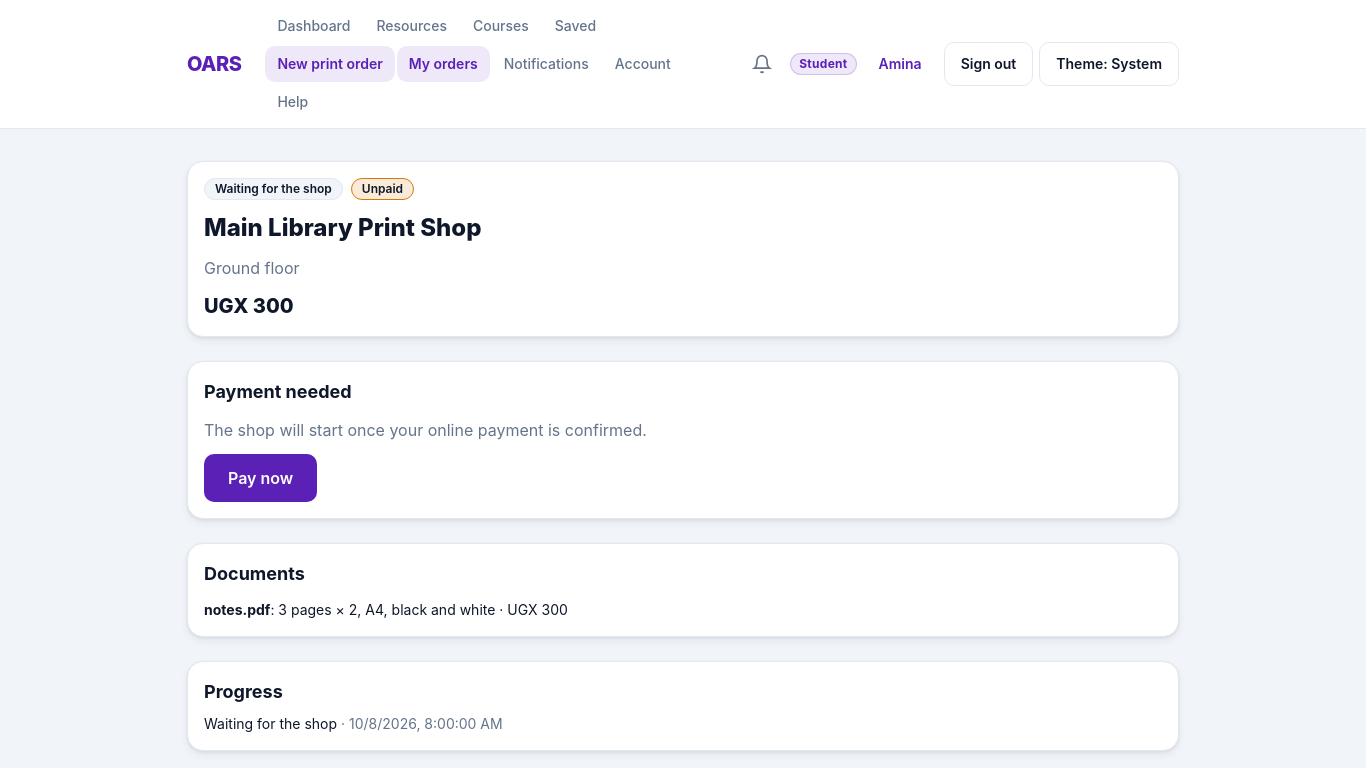
Test: PrintOrderPage › explains when the payment provider is unavailable
The image size is (1366, 768).
Click the button "Pay now".
click(261, 478)  # box [204,454,317,502]
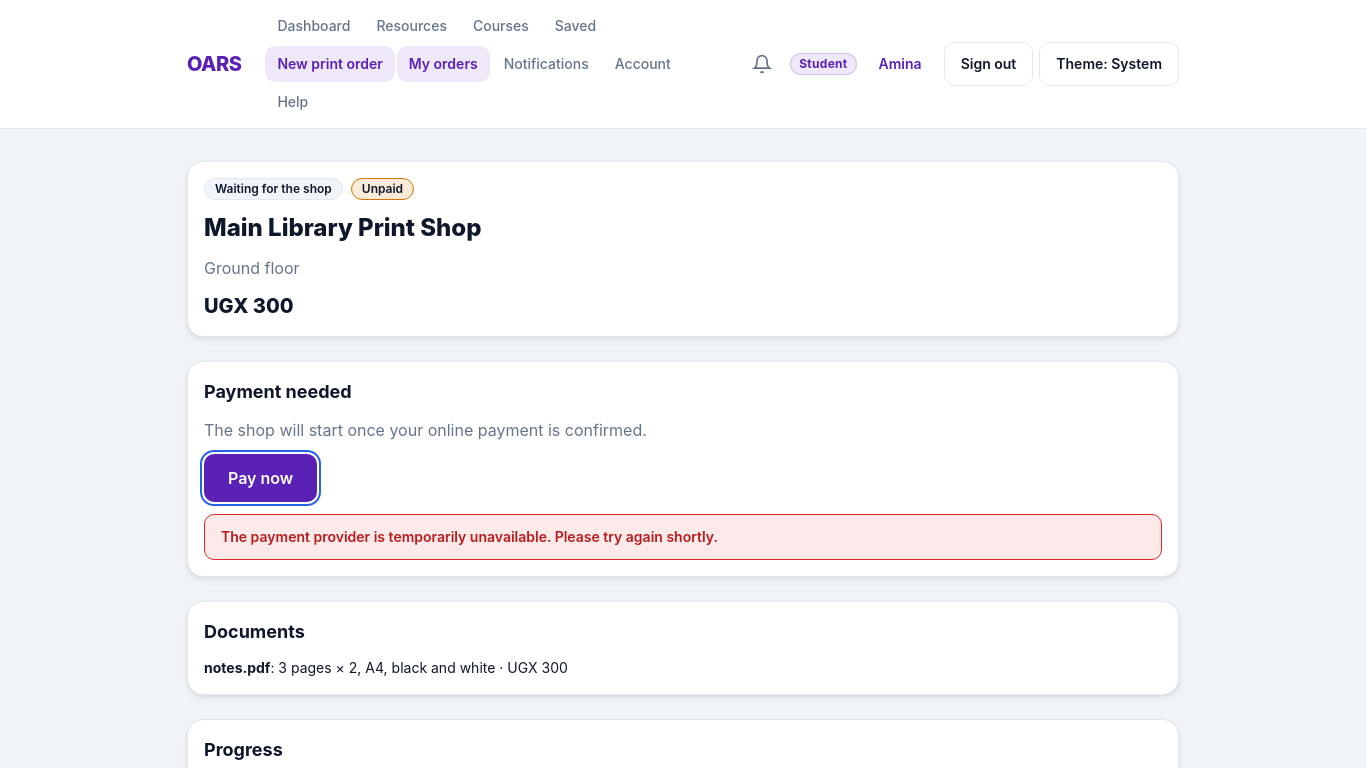
Result: the message shows "temporarily unavailable" at [221,528,718,545]
